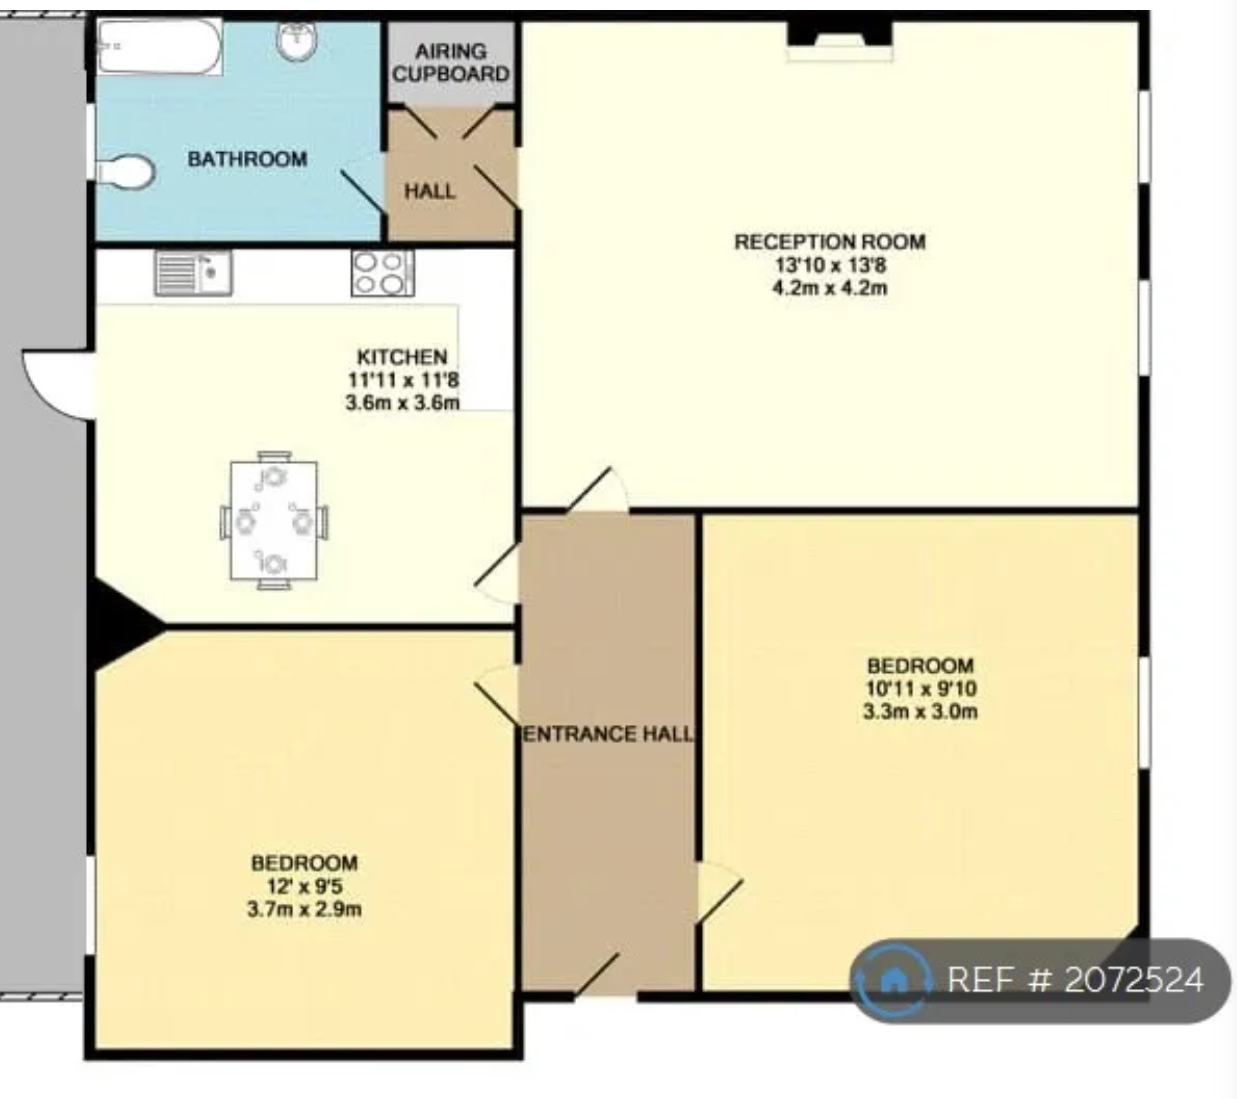basin: (276, 20, 317, 66)
bathtub: (95, 17, 226, 78)
door: (19, 349, 100, 425), (472, 665, 529, 726), (691, 858, 744, 923), (344, 149, 393, 214), (475, 145, 527, 207), (579, 947, 635, 1004), (571, 466, 627, 518), (475, 547, 524, 606)
toilet: (95, 156, 164, 196)
window: (1135, 85, 1155, 185), (1138, 653, 1154, 768), (87, 855, 100, 955), (1139, 276, 1152, 376), (85, 102, 99, 180)
